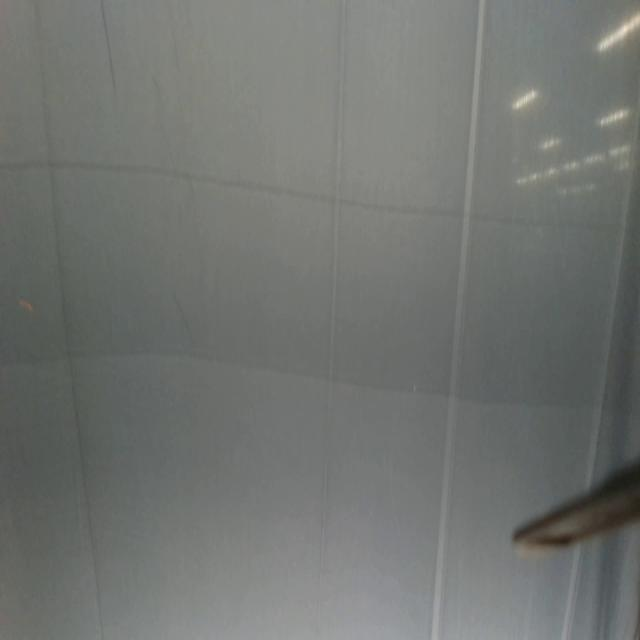color bleeding: (0, 156, 640, 426)
crease: (33, 0, 104, 638), (429, 0, 488, 640), (313, 1, 349, 635), (584, 101, 640, 466), (561, 544, 586, 640), (99, 0, 118, 91)
